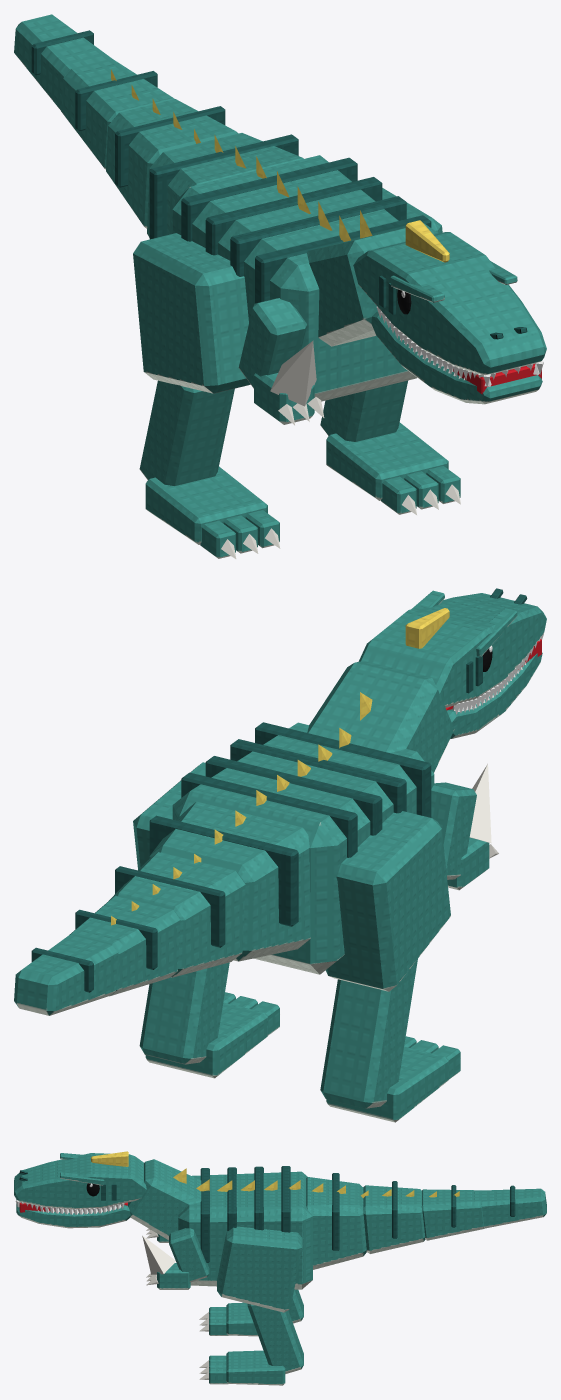
Rendered from 16_Baryonyx.glb.
The picture shows the model from 3 angles, top to bottom: view 1: azimuth 30°, elevation 25°; view 2: azimuth 150°, elevation 25°; view 3: azimuth 270°, elevation 25°; orthographic projection. The views are drawn at different scales.
Parts seen in each view (by area): view 1: 16_Baryonyx; view 2: 16_Baryonyx; view 3: 16_Baryonyx.
Boxes of the visible parts, box(x1,y1,x2,y2) form: 16_Baryonyx: box(14, 14, 546, 558); 16_Baryonyx: box(14, 588, 546, 1122); 16_Baryonyx: box(14, 1151, 546, 1385).
Bounding box in the file's own units: 4.39 × 6.02 × 14.57.
1 material, 1 textured.
